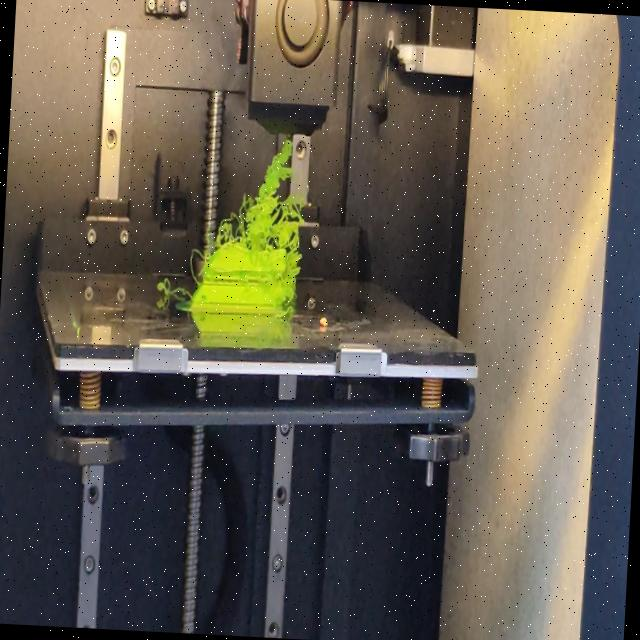spaghetti: (212, 134, 312, 258), (278, 254, 301, 314), (188, 248, 205, 289), (152, 278, 187, 296)
